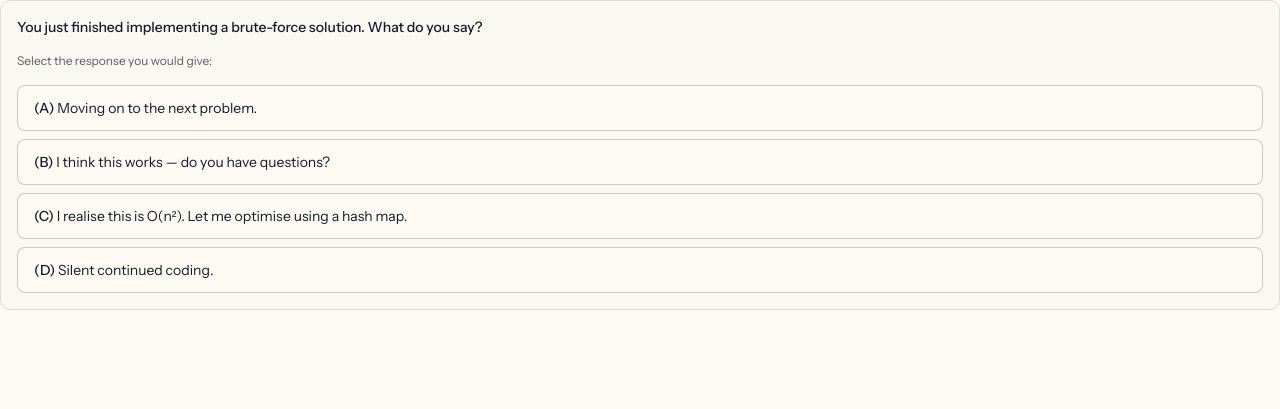
ChooseYourLineWidget › ideal choice feedback says Best response
Click the button with test id "choice-2" at (232, 216), box [17,193,1263,239]
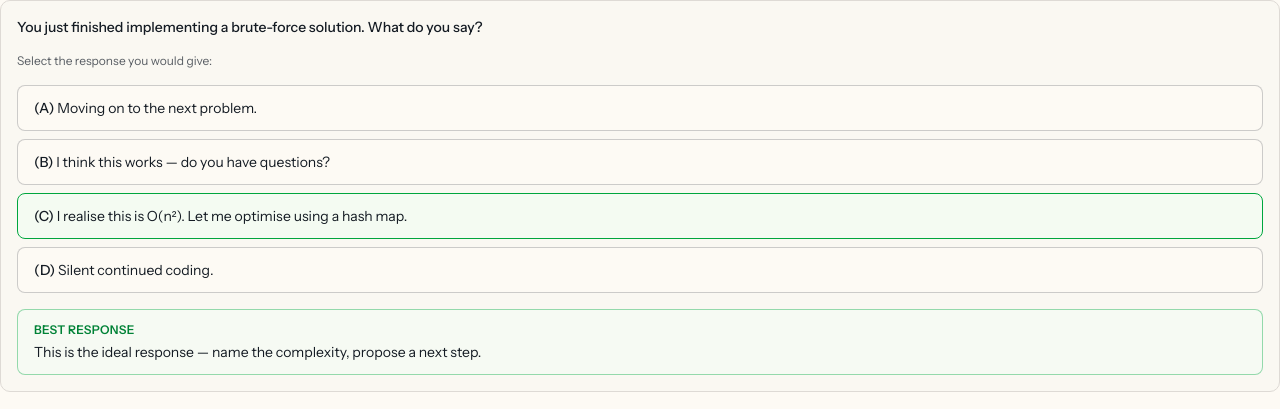
Expected: the element with test id "choice-feedback" shows "Best response", [34,322,135,337]
